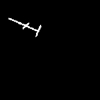double_crochet: (9, 18, 40, 35)
